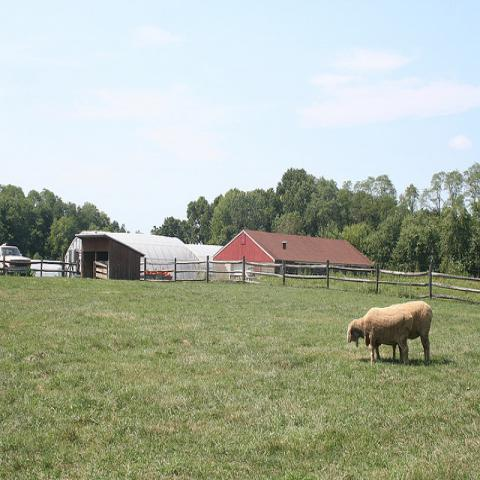truck: (0, 247, 31, 275)
